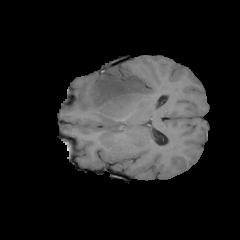glioma: (71, 63, 168, 133)
